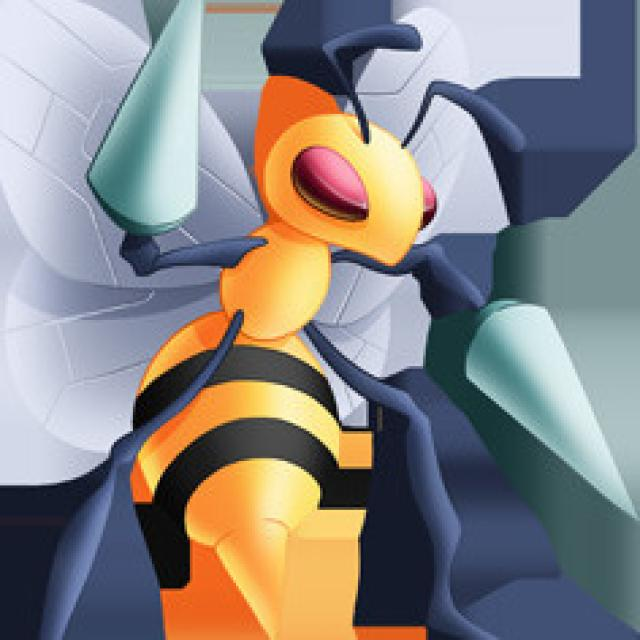Beedrill: (88, 3, 551, 620)
